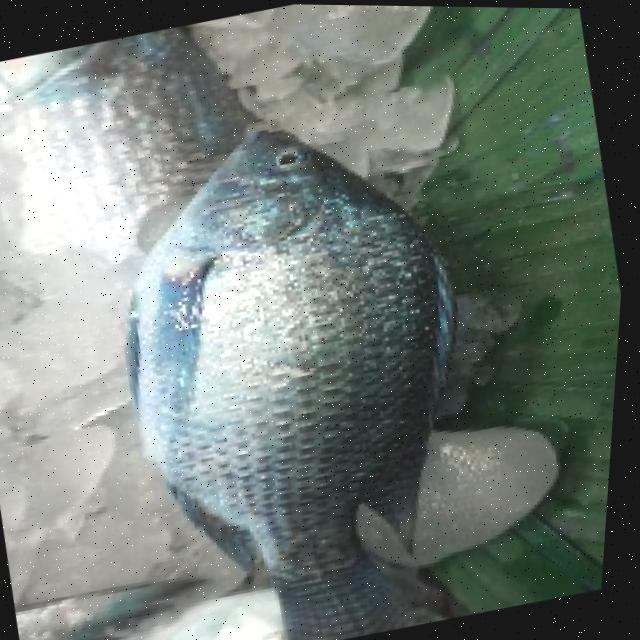Fresh: (20, 63, 540, 640)
